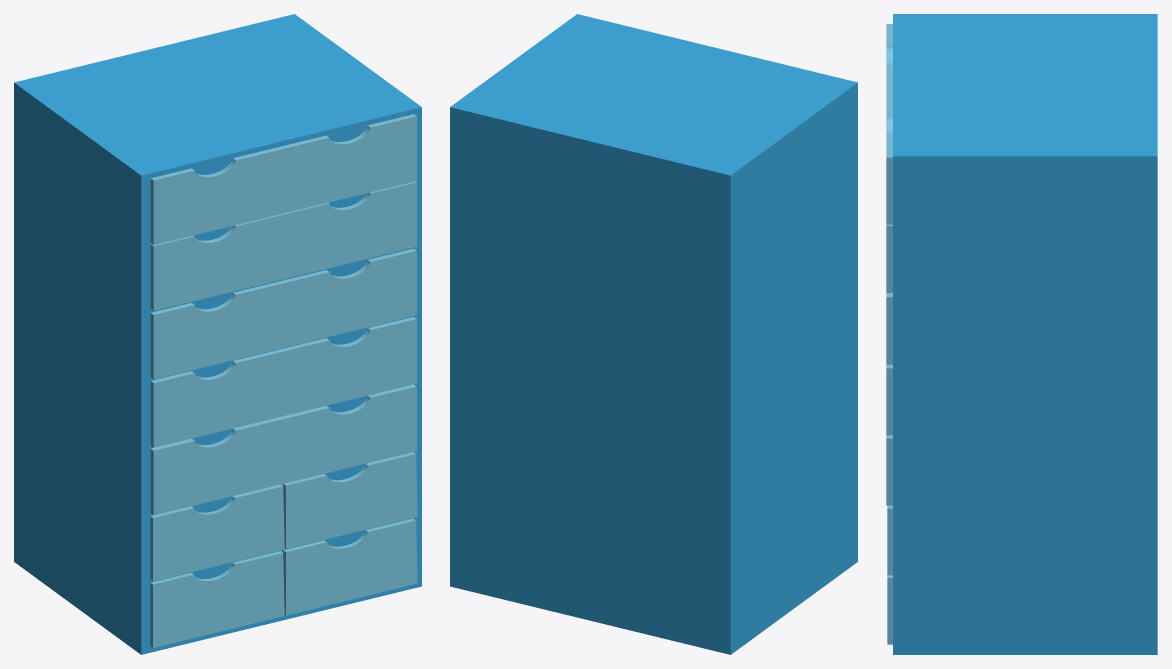
The picture shows the model from 3 angles, left to right: view 1: azimuth 30°, elevation 25°; view 2: azimuth 150°, elevation 25°; view 3: azimuth 270°, elevation 25°; orthographic projection. The views are drawn at different scales.
Parts seen in each view (by area): view 1: drawer.001, drawer_door6.001, drawer_door7.001, drawer_door9.001, drawer_door5.001, drawer_door8.001, drawer_door4.001, drawer_door2.001, drawer_door1.001, drawer_door3.001; view 2: drawer.001; view 3: drawer.001, drawer_door9.001, drawer_door6.001, drawer_door7.001, drawer_door5.001, drawer_door8.001, drawer_door3.001, drawer_door1.001.
Boxes of the visible parts, x1=… form: drawer.001: x1=14, y1=14, x2=421, y2=654; drawer_door6.001: x1=150, y1=317, x2=416, y2=447; drawer_door7.001: x1=150, y1=248, x2=416, y2=379; drawer_door9.001: x1=150, y1=114, x2=416, y2=244; drawer_door5.001: x1=150, y1=384, x2=416, y2=515; drawer_door8.001: x1=150, y1=181, x2=416, y2=310; drawer_door4.001: x1=150, y1=484, x2=284, y2=581; drawer_door2.001: x1=150, y1=551, x2=284, y2=647; drawer_door1.001: x1=283, y1=518, x2=417, y2=615; drawer_door3.001: x1=283, y1=452, x2=417, y2=548; drawer.001: x1=450, y1=14, x2=857, y2=654; drawer.001: x1=893, y1=14, x2=1157, y2=654; drawer_door9.001: x1=886, y1=24, x2=892, y2=224; drawer_door6.001: x1=886, y1=364, x2=892, y2=435; drawer_door7.001: x1=886, y1=293, x2=892, y2=364; drawer_door5.001: x1=886, y1=435, x2=892, y2=505; drawer_door8.001: x1=886, y1=224, x2=892, y2=292; drawer_door3.001: x1=887, y1=505, x2=892, y2=575; drawer_door1.001: x1=887, y1=575, x2=892, y2=644.
Bounding box in the file's own units: 255 × 416 × 205.
